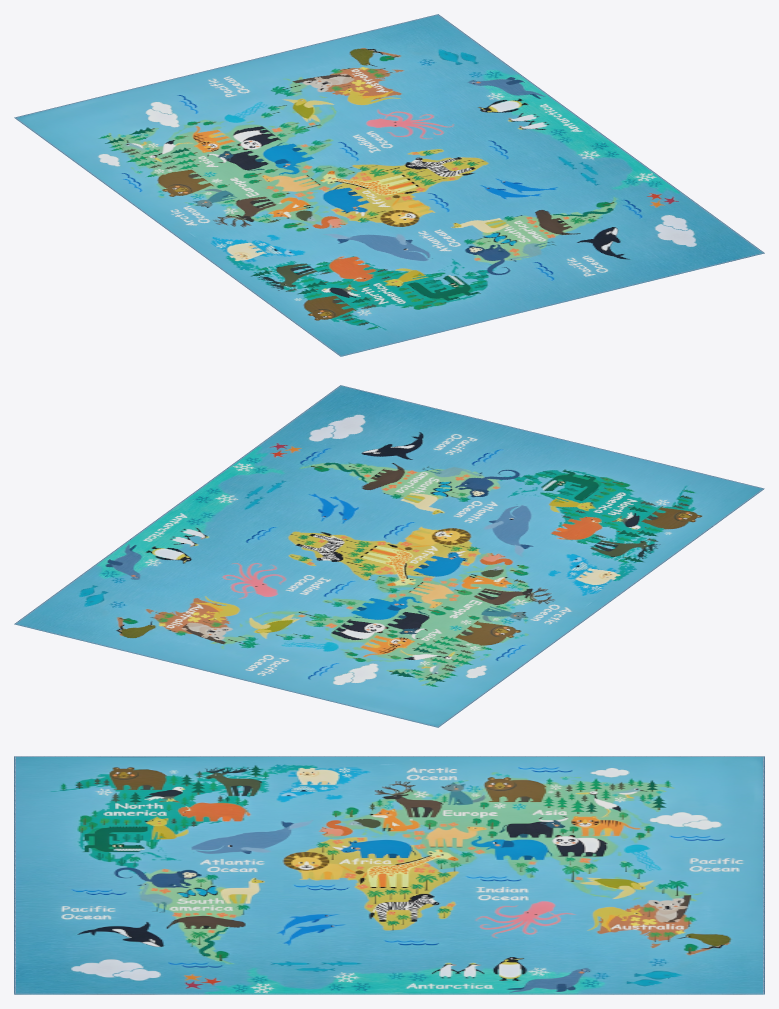
Rendered from carpet4_Chenille_120x160.glb.
3 renders of one model, top to bottom at view 1: azimuth 30°, elevation 25°; view 2: azimuth 150°, elevation 25°; view 3: azimuth 270°, elevation 25°, orthographic. The views are drawn at different scales.
Parts seen in each view (by area): view 1: carpet_Chenille_120x160 (1); view 2: carpet_Chenille_120x160 (1); view 3: carpet_Chenille_120x160 (1).
Boxes of the visible parts, <box> form: carpet_Chenille_120x160 (1): <box>14,14,764,356</box>; carpet_Chenille_120x160 (1): <box>14,385,764,727</box>; carpet_Chenille_120x160 (1): <box>14,756,764,994</box>.
Size of the model in its own units: 1.2 by 0.001 by 1.6.
2 materials, 2 textured.
